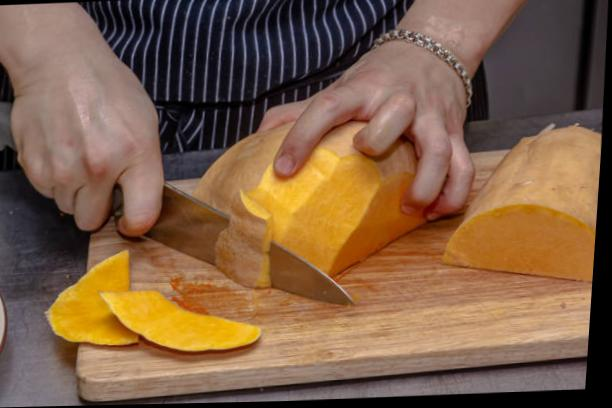organic: (0, 3, 163, 236), (443, 124, 600, 279), (100, 290, 260, 351), (48, 251, 137, 344), (211, 191, 270, 286)
